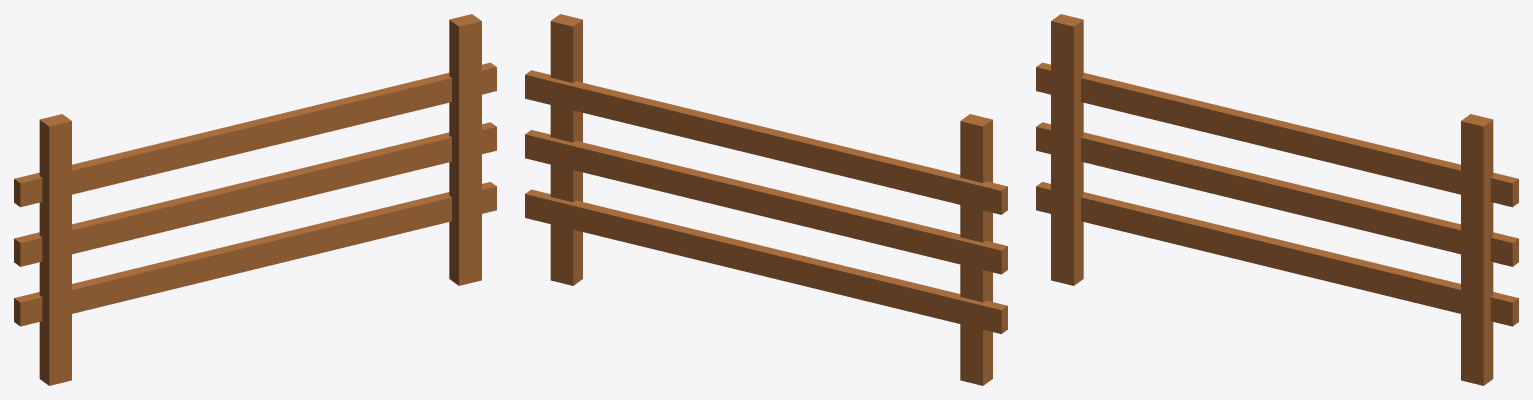
The model's file is wood_panel.fbx.
The picture shows the model from 3 angles, left to right: view 1: azimuth 30°, elevation 25°; view 2: azimuth 150°, elevation 25°; view 3: azimuth 330°, elevation 25°; orthographic projection.
Visible parts, largest first — view 1: wood_panel; view 2: wood_panel; view 3: wood_panel.
Boxes of the visible parts, left/top/right/bottom form: wood_panel: left=14, top=14, right=496, bottom=385; wood_panel: left=525, top=14, right=1007, bottom=385; wood_panel: left=1036, top=14, right=1518, bottom=385.
Size of the model in its own units: 2.5 by 1.3 by 0.12.
